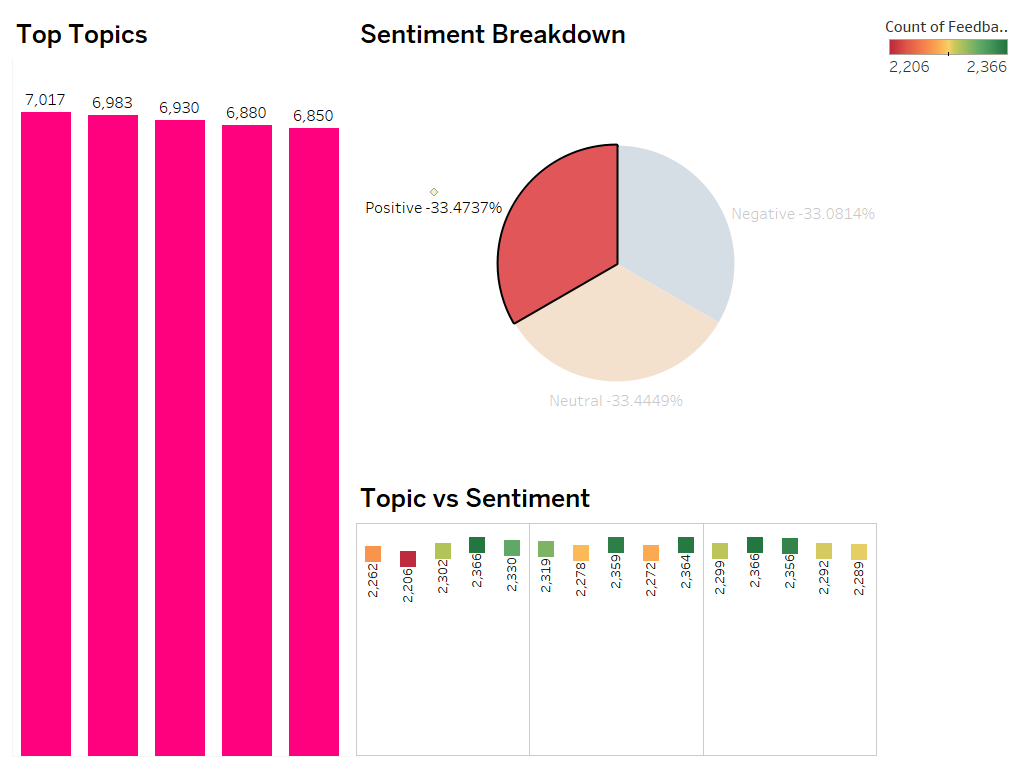

The page's visual inventory and layout, read from the dashboard file:
{"tool":"tableau","page":{"name":"Dashboard 1","canvas":[1000,800],"ordinal":0},"visuals":[{"type":"worksheet","title":"Sheet 2","mark":"Bar","rows":["feedback_id"],"cols":["topic"],"box":[8,8,334.8,784]},{"type":"worksheet","title":"Sheet 1","mark":"Pie","box":[342.8,8,514.2,484]},{"type":"legend","title":"Sheet 3","param":"[federated.1g8kede0w4pp461cul80m0z7gt9i].[cnt:feedback_id:qk]","box":[857,8,135,73]},{"type":"worksheet","title":"Sheet 3","mark":"Square","rows":["feedback_id"],"cols":["sentiment","topic"],"box":[342.8,492,514.2,300]}]}

Visuals, with their boxes in screenshot pixels (x1, y1, x2, y2):
"Sheet 2" worksheet (Bar marks): 18, 34, 335, 767
"Sheet 1" worksheet (Pie marks): 335, 34, 822, 492
"Sheet 3" legend: 822, 34, 950, 103
"Sheet 3" worksheet (Square marks): 335, 492, 822, 767
